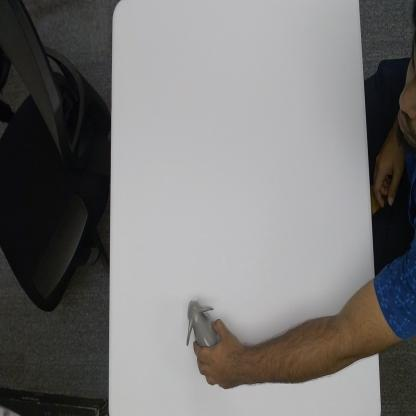Arm: (244, 274, 376, 386)
Elephant: (186, 298, 217, 349)
Hand: (193, 316, 243, 391)
